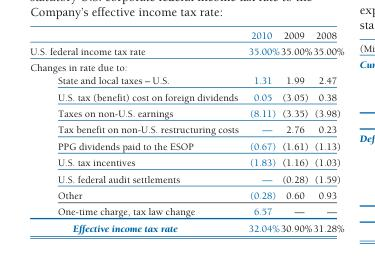table: (29, 29, 343, 233)
table column: (29, 29, 242, 233), (242, 29, 279, 233), (279, 29, 311, 233), (311, 29, 343, 233)
table column header: (29, 29, 343, 42)
table projected row header: (29, 59, 343, 73)
table row: (29, 42, 343, 59), (29, 104, 343, 121), (29, 137, 343, 154), (29, 186, 343, 203), (29, 88, 343, 104), (29, 121, 343, 137), (29, 154, 343, 170), (29, 170, 343, 186), (29, 203, 343, 219), (29, 73, 343, 88), (29, 59, 343, 73), (29, 219, 343, 233), (29, 29, 343, 42)
